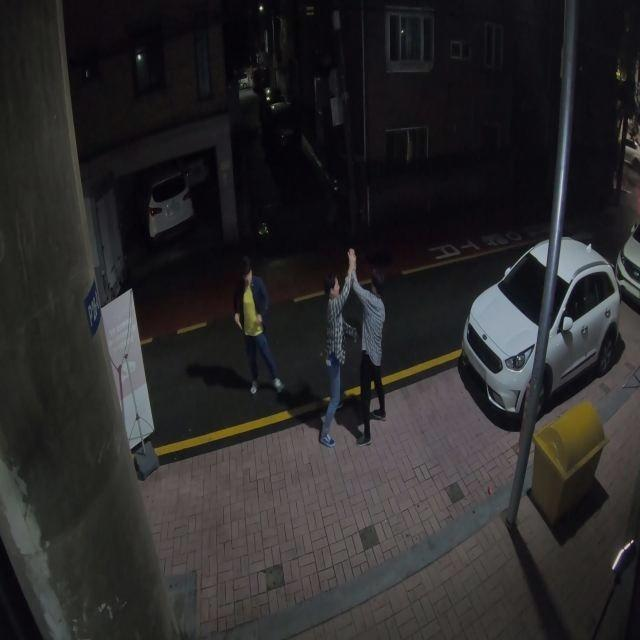fight: (316, 247, 386, 446)
non-fight: (233, 269, 283, 400)
